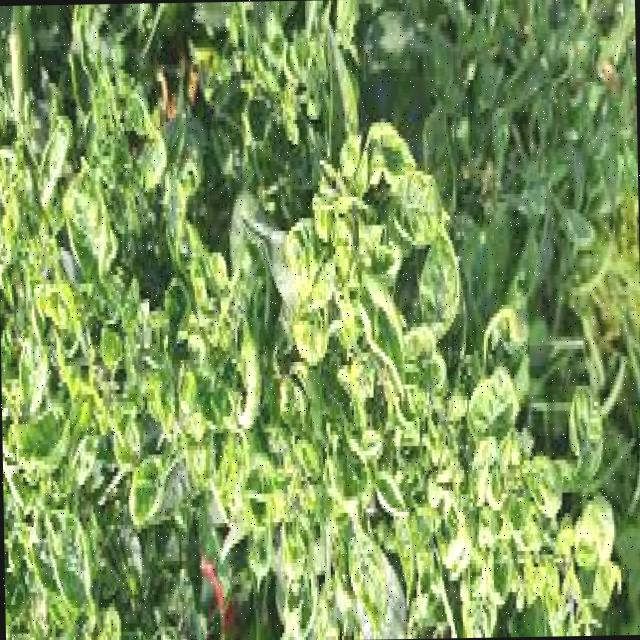leaf curl: (274, 106, 522, 468)
